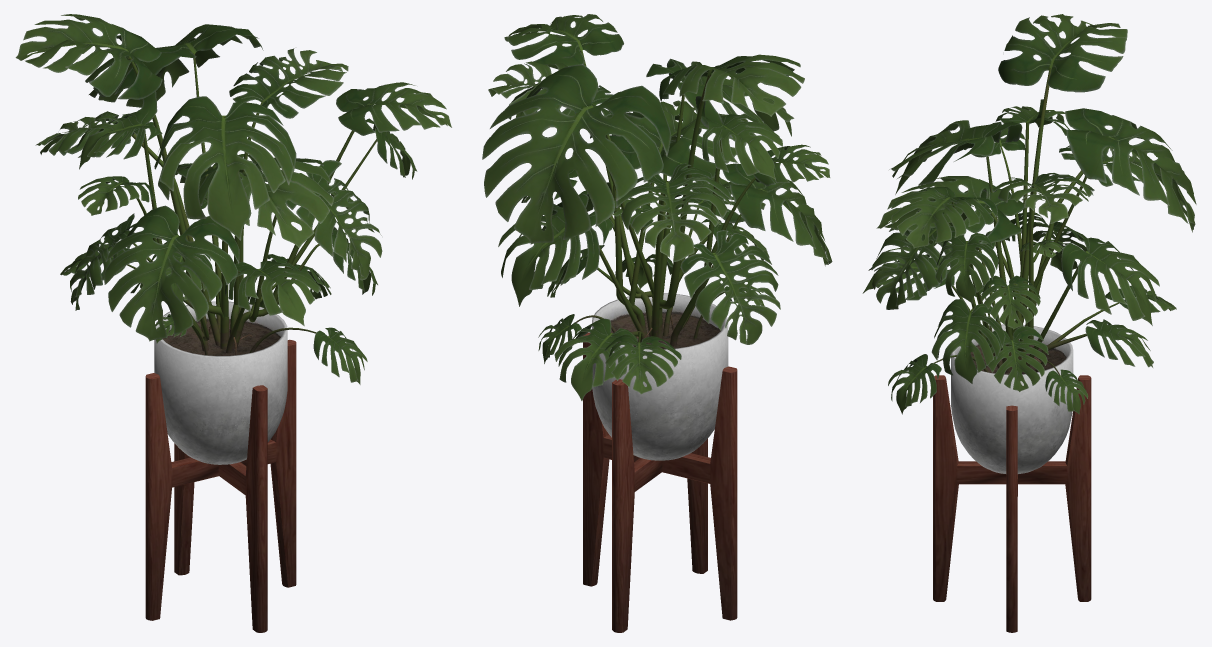
3 renders of one model, left to right at view 1: azimuth 30°, elevation 25°; view 2: azimuth 150°, elevation 25°; view 3: azimuth 270°, elevation 25°, orthographic. The views are drawn at different scales.
Parts seen in each view (by area): view 1: Leaves, Stand, Pot_LP, root_HP_1_Mat.2_0; view 2: Leaves, Stand, Pot_LP, root_HP_1_Mat.2_0; view 3: Leaves, Stand, Pot_LP, root_HP_1_Mat.2_0.
Part boxes in pixels (x1,y1,x2,y2): Leaves: (15, 14, 451, 384); Stand: (145, 339, 296, 632); Pot_LP: (154, 301, 287, 464); root_HP_1_Mat.2_0: (124, 53, 376, 355); Leaves: (482, 14, 832, 400); Stand: (583, 332, 737, 632); Pot_LP: (592, 293, 728, 460); root_HP_1_Mat.2_0: (559, 50, 755, 346); Leaves: (862, 14, 1196, 414); Stand: (933, 375, 1091, 632); Pot_LP: (951, 324, 1073, 473); root_HP_1_Mat.2_0: (933, 68, 1119, 375).
Bounding box in the file's own units: 0.8695 × 1.36 × 0.7911.
3 materials, 3 textured.
